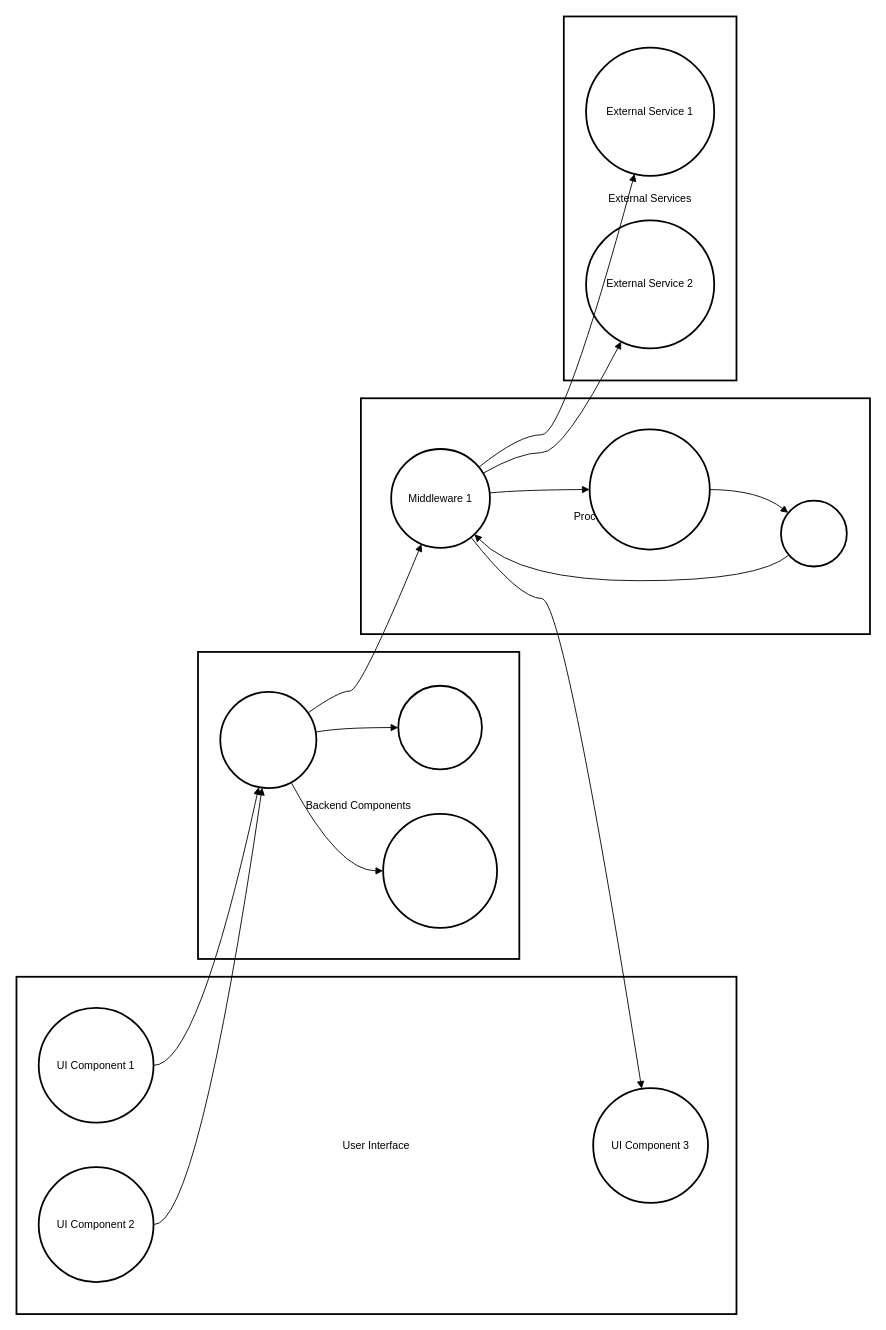
Some shapes in this 886 by 1330 pixel diagram are drawn without their labels. The centre of each missing label's shape, as x and y in pixels:
API Service 1: point 268,740
Cache Service 1: point 440,870
Database 1: point 439,727
Queue 1: point 813,533
Worker Service 1: point 649,489
